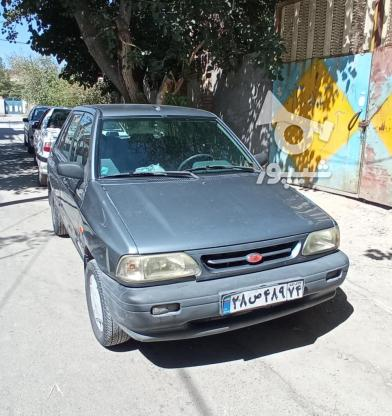car: (218, 278, 303, 319)
